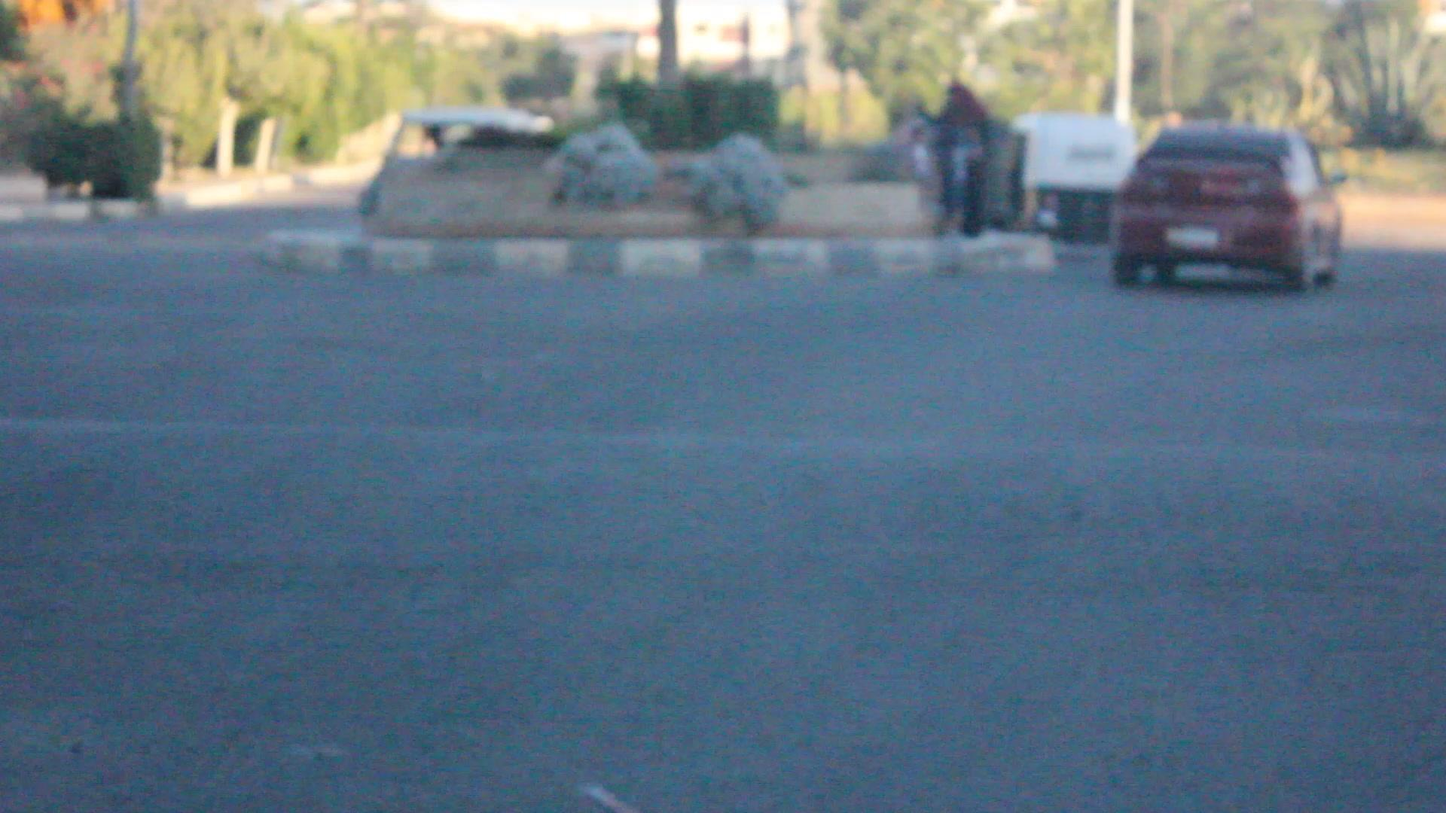Bump: (0, 399, 1446, 583)
